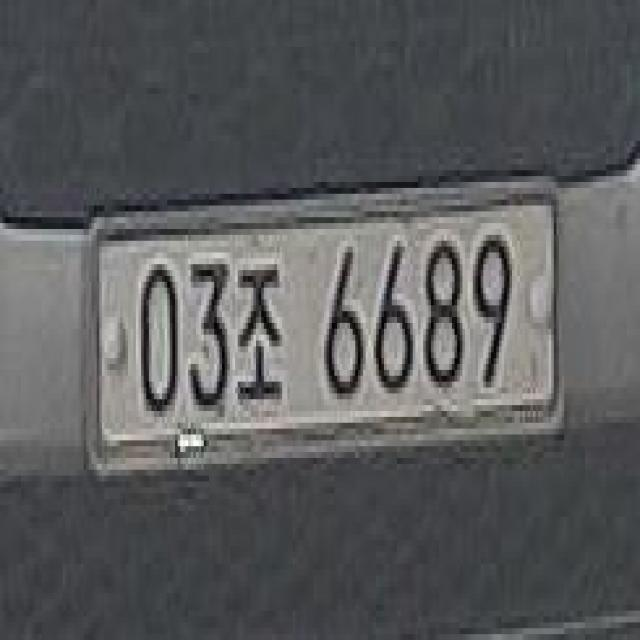illegal_plate: (90, 178, 565, 478)
